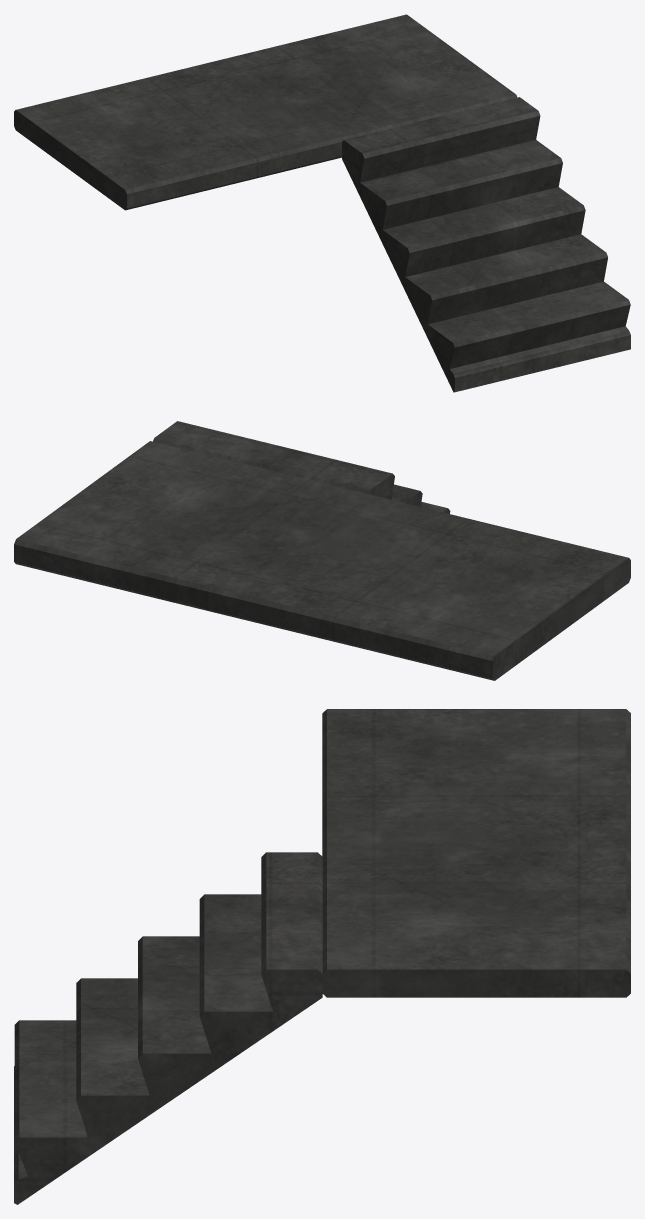
Rendered from stairs_1.fbx.
The picture shows the model from 3 angles, top to bottom: view 1: azimuth 30°, elevation 25°; view 2: azimuth 150°, elevation 25°; view 3: azimuth 270°, elevation 25°; orthographic projection. The views are drawn at different scales.
Visible parts, largest first — view 1: stairs_1; view 2: stairs_1; view 3: stairs_1.
Boxes of the visible parts, x1,y1,x2,y2 form: stairs_1: (14,14,630,392); stairs_1: (14,421,630,680); stairs_1: (14,709,630,1204).
Size of the model in its own units: 4 by 4 by 1.68.
